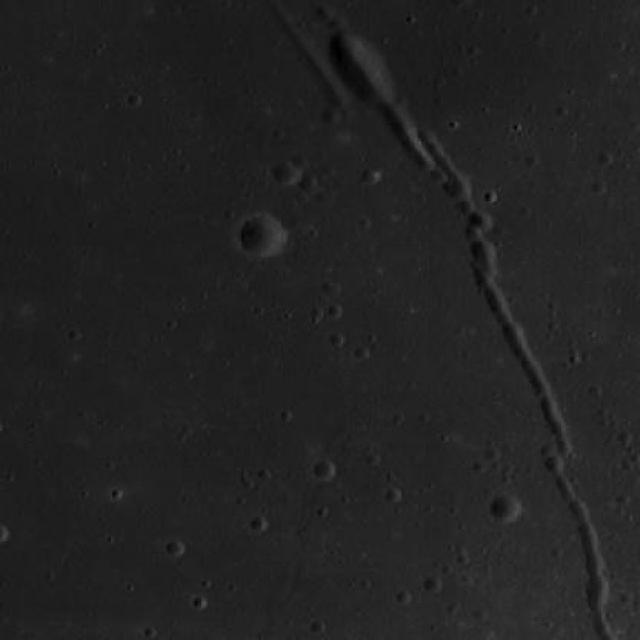crater: (240, 214, 286, 257), (488, 492, 521, 522), (272, 160, 298, 186), (312, 459, 336, 481), (320, 106, 340, 125), (360, 167, 380, 184), (298, 174, 317, 191), (422, 576, 440, 593), (167, 540, 184, 556)
